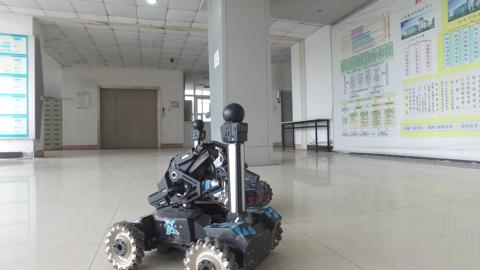chariot: (104, 99, 281, 270)
